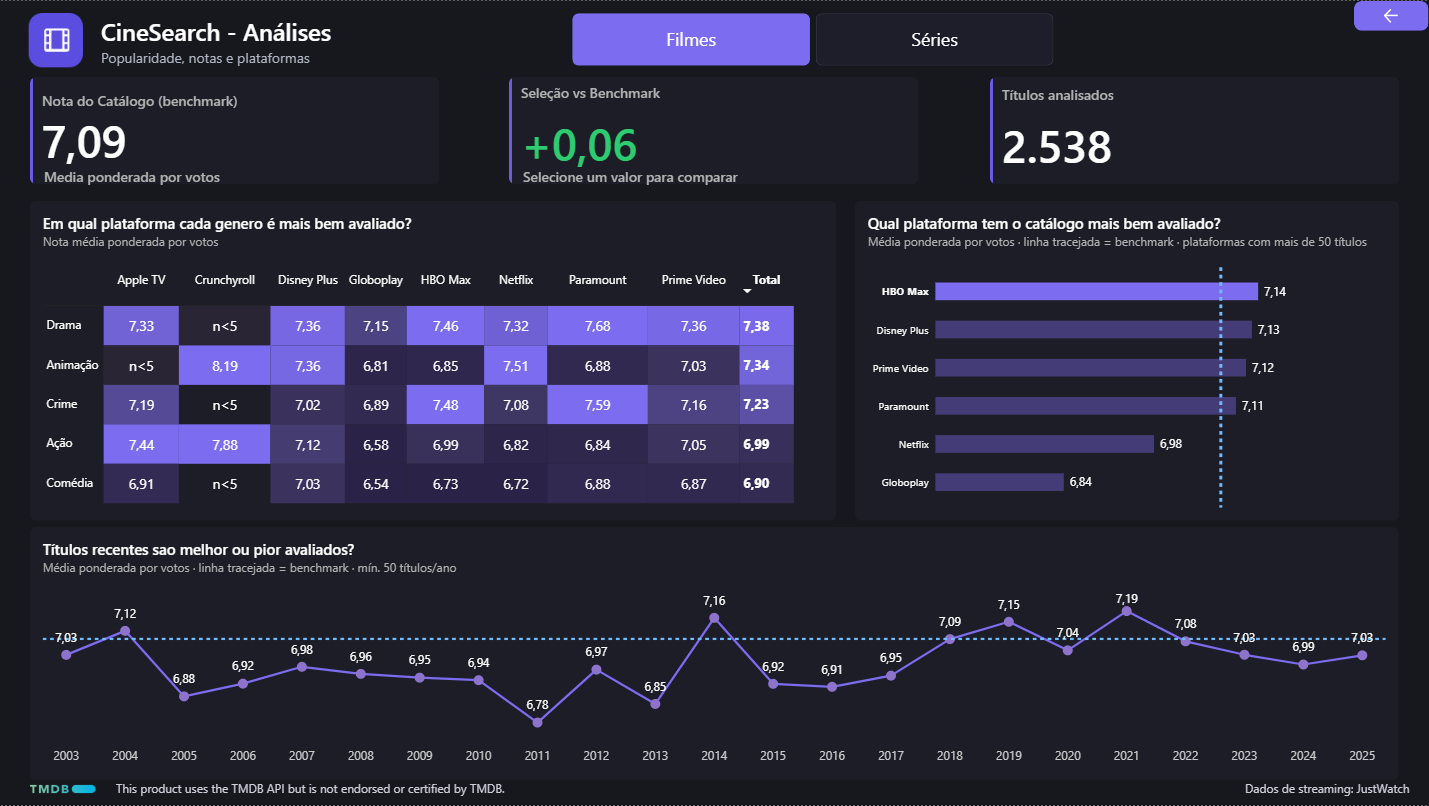

Layout of this report page (visuals, bound fields, positions):
{"tool":"powerbi","page":{"name":"Análises","canvas":[1920,1080],"ordinal":1},"visuals":[{"type":"textbox","box":[137.1,19,357.4,43.8],"z":0},{"type":"textbox","box":[137.1,62.7,405.6,51.1],"z":1000},{"type":"image","box":[23.3,16,106.5,72.9],"z":2000},{"type":"cardVisual","fields":{"Data":["SeletorMetrica.Nota do Catalogo"]},"box":[42.3,102.1,550,144.4],"z":3000},{"type":"textbox","box":[1125,780,158.3,63.3],"z":4000},{"type":"textbox","box":[156.7,1046.7,925,21.7],"z":5000},{"type":"image","box":[41.7,1036.7,88.3,43.3],"z":6000},{"type":"textbox","box":[1673.3,1046.7,235,21.7],"z":7000},{"type":"advancedSlicerVisual","fields":{"Values":["vw_Titulos.Tipo_segmento"]},"box":[755.7,2.9,674.3,98.6],"z":8000},{"type":"cardVisual","fields":{"Data":["SeletorMetrica.Seleção vs Benchmark"]},"box":[685.7,102.1,550,144.4],"z":9000},{"type":"cardVisual","title":"Titulos Analisados","fields":{"Data":["SeletorMetrica.Quantidade de Títulos"]},"box":[1330.6,102.1,550,144.4],"z":10000},{"type":"actionButton","box":[1820,0,100,40],"z":11000},{"type":"textbox","box":[59.8,223.2,510.6,35],"z":12000},{"type":"pivotTable","title":"Em qual plataforma cada genero é mais bem avaliado?","fields":{"Columns":["vw_Provedores.provedor_nome"],"Rows":["vw_Generos.genero_nome"],"Values":["SeletorMetrica.Nota Exibida"]},"box":[42.3,268.4,1082.6,428.9],"z":13000},{"type":"barChart","title":"Qual plataforma tem o catálogo mais bem avaliado?","fields":{"Category":["vw_Provedores.provedor_nome"],"Y":["SeletorMetrica.Nota do Catalogo"]},"box":[1149.7,268.4,730.9,428.9],"z":14000},{"type":"lineChart","title":"Títulos recentes sao melhor ou pior avaliados?","fields":{"Category":["vw_Titulos.Ano"],"Y":["SeletorMetrica.Benchmark Fixo (gráfico)"]},"box":[42.3,706.1,1838.3,339.9],"z":15000},{"type":"textbox","box":[703.2,223.2,510.6,35],"z":17000}]}

Visuals, with their boxes in screenshot pixels (x1, y1, x2, y2), scaled from the page's 1920x1080 canvas onto the 1429x806 screenshot:
textbox: region(102, 14, 368, 47)
textbox: region(102, 47, 404, 85)
image: region(17, 12, 97, 66)
cardVisual - SeletorMetrica.Nota do Catalogo: region(31, 76, 441, 184)
textbox: region(837, 582, 955, 629)
textbox: region(117, 781, 805, 797)
image: region(31, 774, 97, 805)
textbox: region(1245, 781, 1420, 797)
advancedSlicerVisual - vw_Titulos.Tipo_segmento: region(562, 2, 1064, 76)
cardVisual - SeletorMetrica.Seleção vs Benchmark: region(510, 76, 920, 184)
"Titulos Analisados" cardVisual: region(990, 76, 1400, 184)
actionButton: region(1355, 0, 1428, 30)
textbox: region(45, 167, 425, 193)
"Em qual plataforma cada genero é mais bem avaliado?" pivotTable: region(31, 200, 837, 520)
"Qual plataforma tem o catálogo mais bem avaliado?" barChart: region(856, 200, 1400, 520)
"Títulos recentes sao melhor ou pior avaliados?" lineChart: region(31, 527, 1400, 781)
textbox: region(523, 167, 903, 193)
